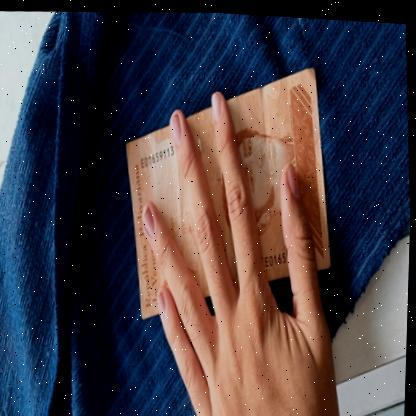twenty-front-vef: (116, 52, 339, 326)
